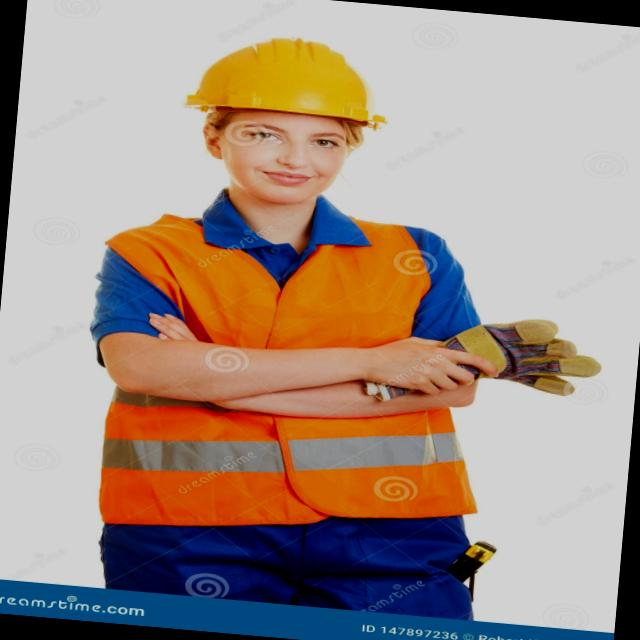helmet: (198, 28, 403, 130)
no-goggles: (210, 114, 372, 160)
vest: (91, 198, 511, 539)
